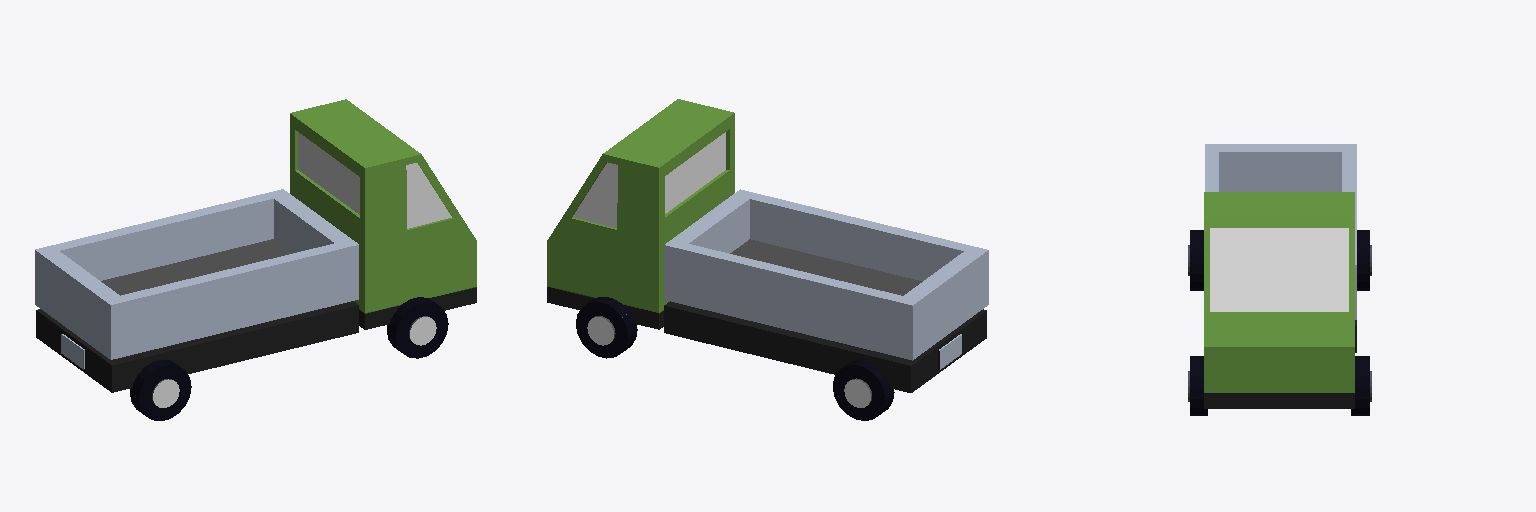
3 renders of one model, left to right at view 1: azimuth 30°, elevation 25°; view 2: azimuth 150°, elevation 25°; view 3: azimuth 270°, elevation 25°, orthographic.
Visible parts, largest first — view 1: Object152; view 2: Object152; view 3: Object152.
Part boxes in pixels (x1,y1,x2,y2): Object152: (35, 99, 476, 420); Object152: (547, 99, 988, 420); Object152: (1188, 144, 1371, 415).
Bounding box in the file's own units: 461 × 236 × 201.
Materials: 1 (1 with a texture image).